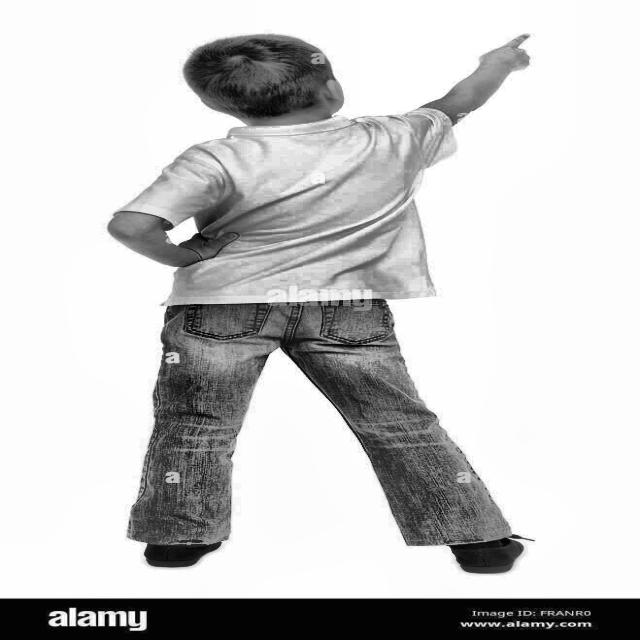Human: (55, 0, 574, 606)
